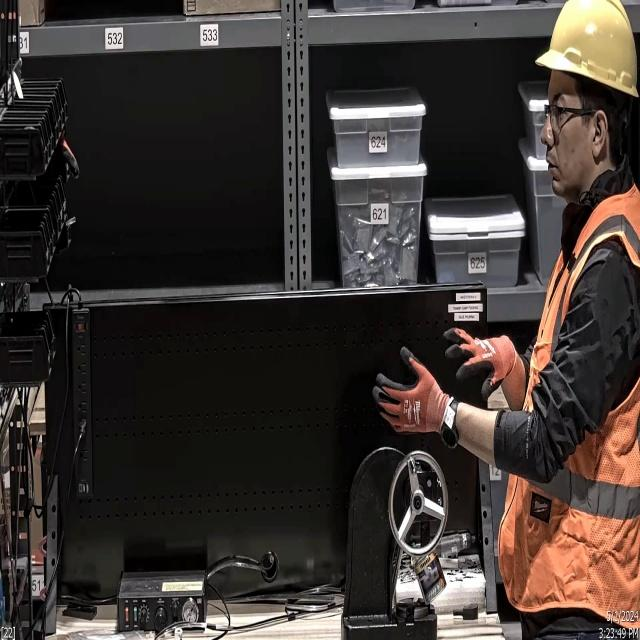construction-gloves: (369, 346, 448, 442), (445, 324, 520, 398)
